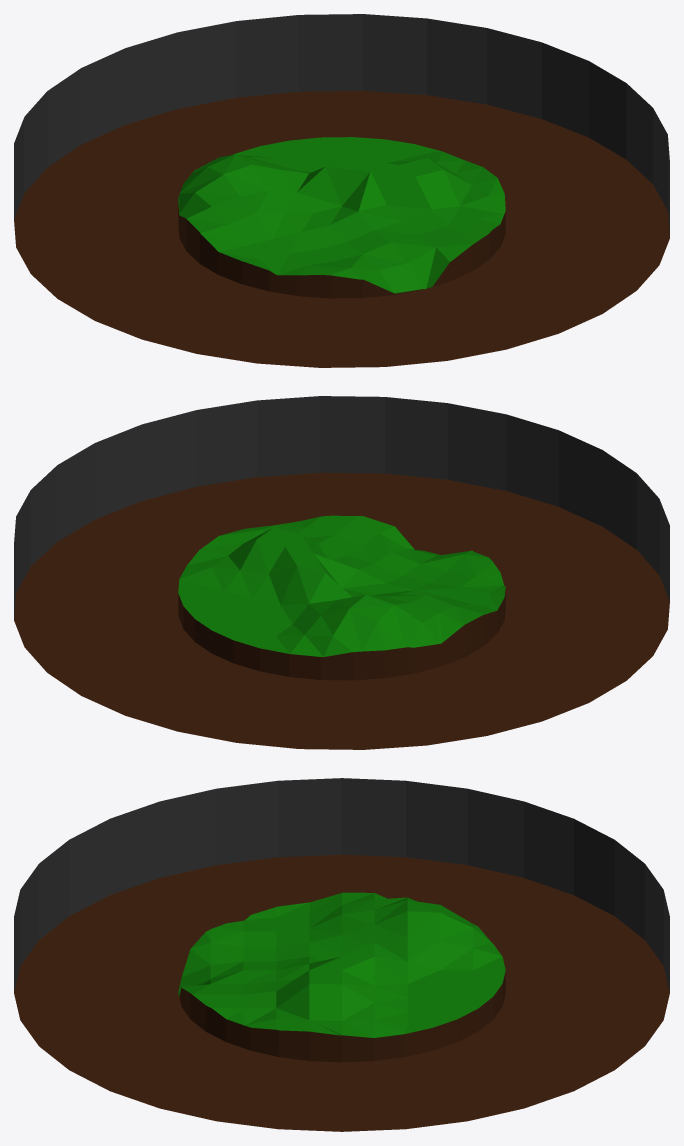
Rendered from DiscWorld02.obj.
3 views of the same model, one above another, from view 1: azimuth 30°, elevation 25°; view 2: azimuth 150°, elevation 25°; view 3: azimuth 270°, elevation 25° (orthographic).
Visible parts, largest first — view 1: BaseCircles; view 2: BaseCircles; view 3: BaseCircles.
Part boxes in pixels (left/top/right/bottom): BaseCircles: left=14, top=14, right=669, bottom=367; BaseCircles: left=14, top=396, right=669, bottom=749; BaseCircles: left=14, top=778, right=669, bottom=1131.
Bounding box in the file's own units: 200 × 28.82 × 200.
